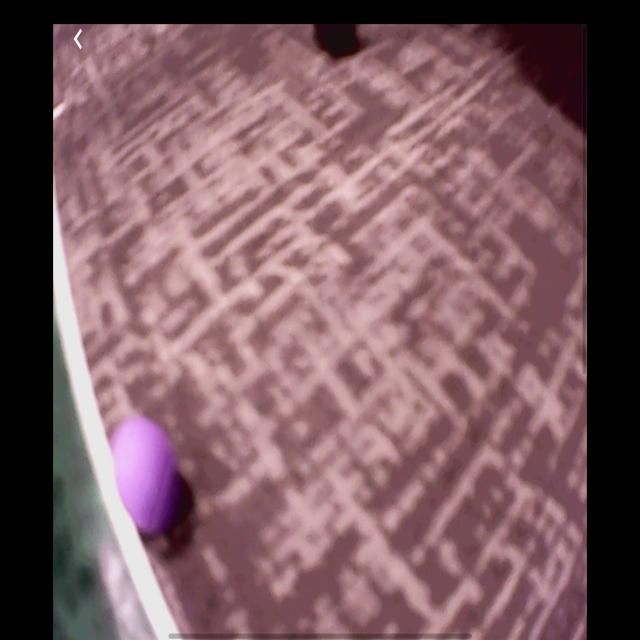ball: (109, 414, 193, 540)
